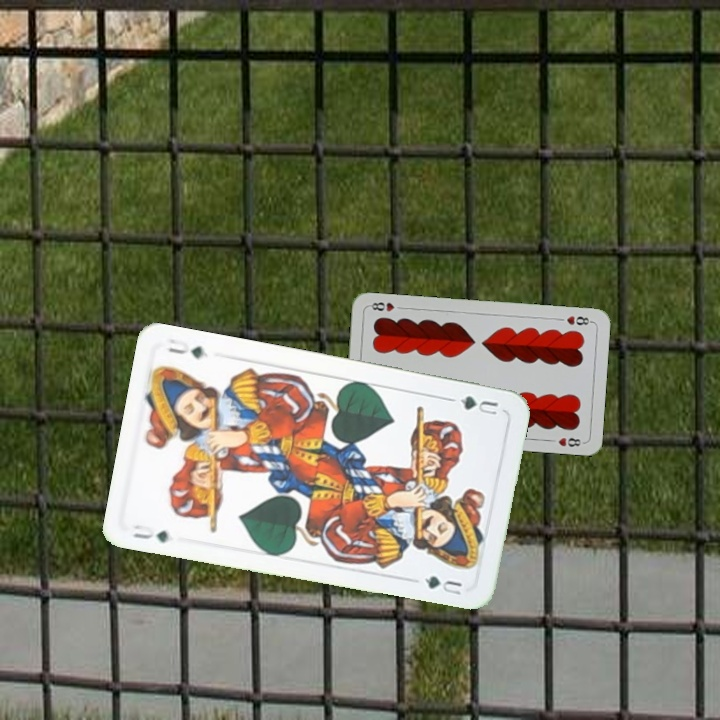GU: (456, 391, 500, 419), (128, 520, 172, 545)
H8: (562, 312, 594, 328)
